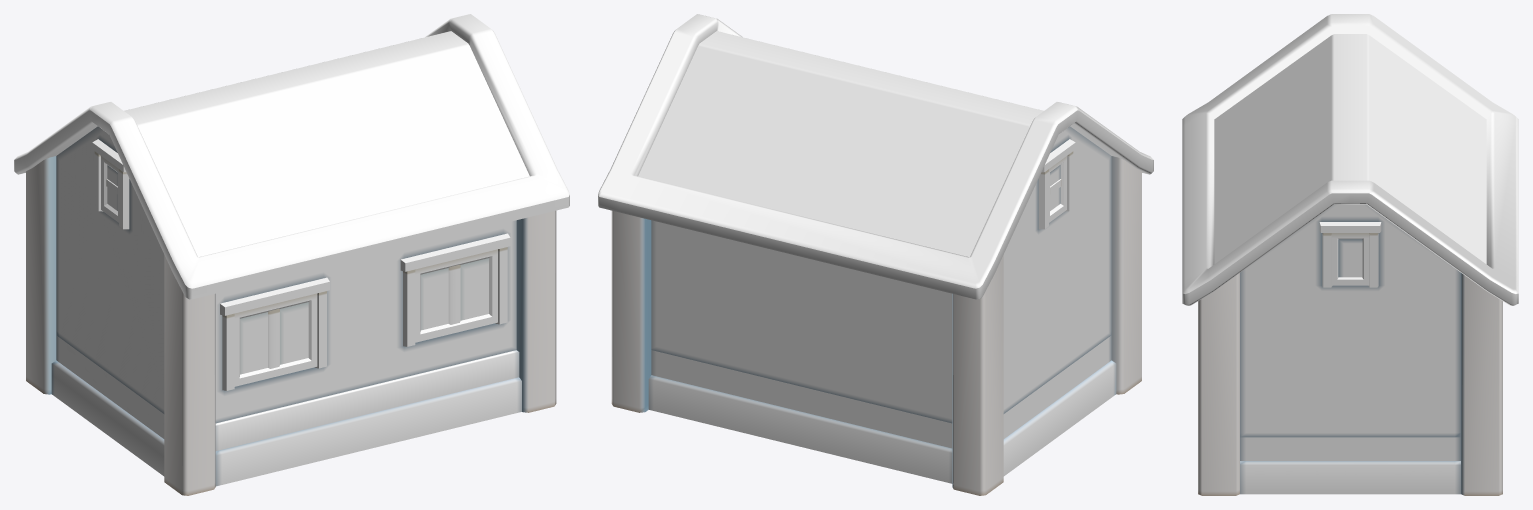
Rendered from vermilion-house-b.glb.
3 views of the same model, side by side, from view 1: azimuth 30°, elevation 25°; view 2: azimuth 150°, elevation 25°; view 3: azimuth 270°, elevation 25° (orthographic). The views are drawn at different scales.
Parts seen in each view (by area): view 1: vermilion-house-b; view 2: vermilion-house-b; view 3: vermilion-house-b.
Part boxes in pixels (x1,y1,x2,y2): vermilion-house-b: (14,14,569,495); vermilion-house-b: (598,14,1153,495); vermilion-house-b: (1182,14,1518,495).
Size of the model in its own units: 4 by 3.24 by 3.2.
